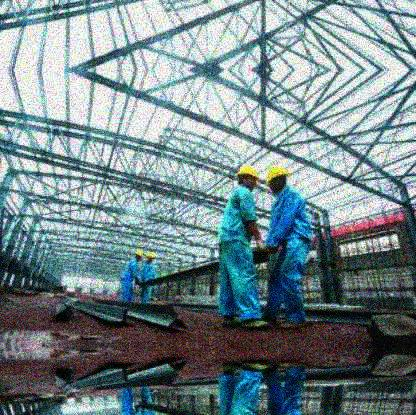helmet: (237, 166, 258, 191), (134, 249, 143, 262), (145, 252, 154, 263)
